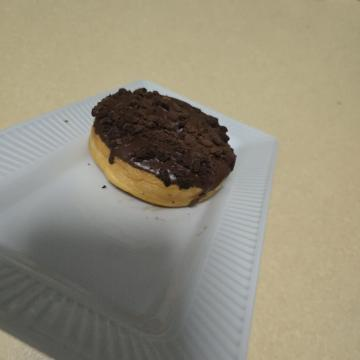doughnut: (71, 113, 218, 286)
